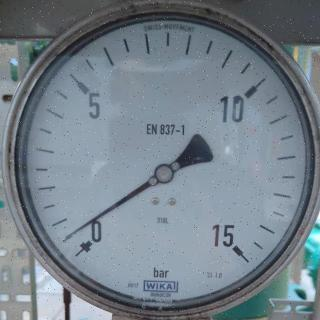gauge: (0, 0, 320, 320), (68, 220, 108, 262), (215, 228, 251, 264), (153, 162, 174, 184), (64, 230, 74, 242)
